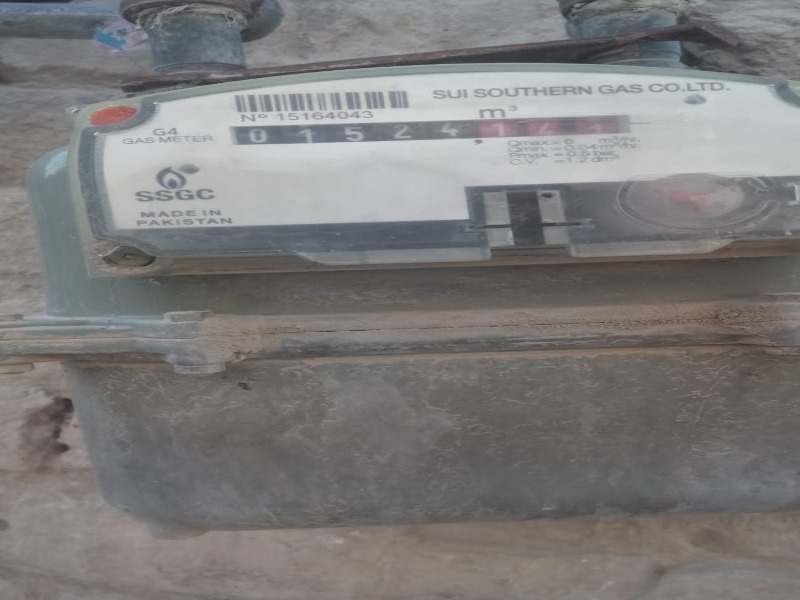ssgc: (226, 118, 633, 143)
